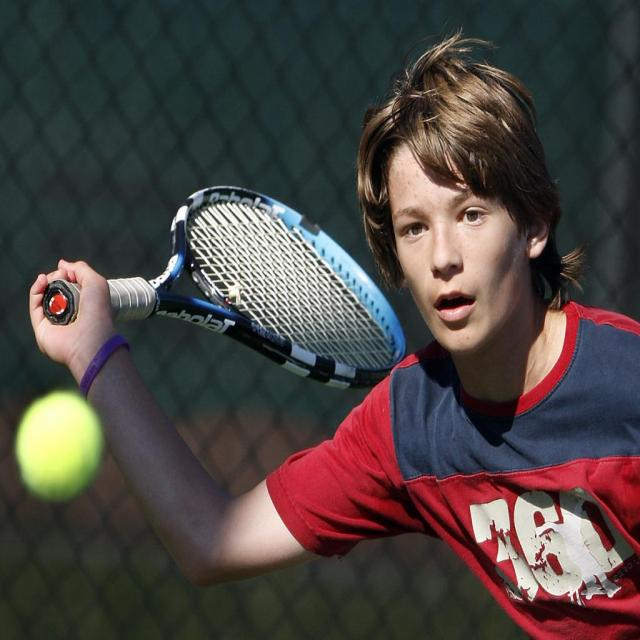nomask: (388, 134, 528, 350)
